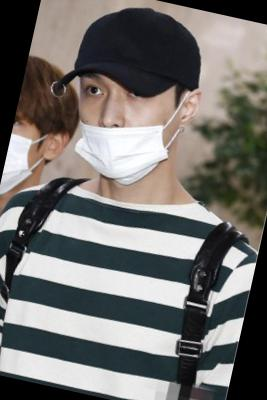mask_weared_incorrect: (62, 72, 186, 191)
